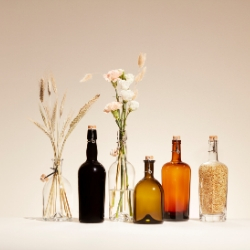glass_bottle: (75, 122, 108, 227), (161, 131, 195, 224), (197, 133, 232, 223), (131, 150, 166, 227)
